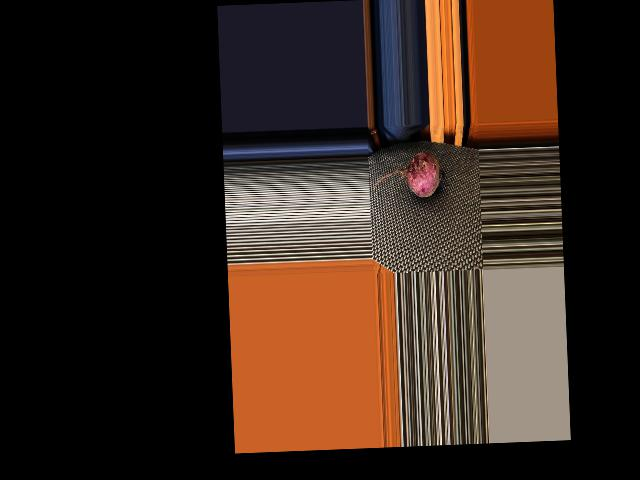beet: (373, 150, 446, 198)
